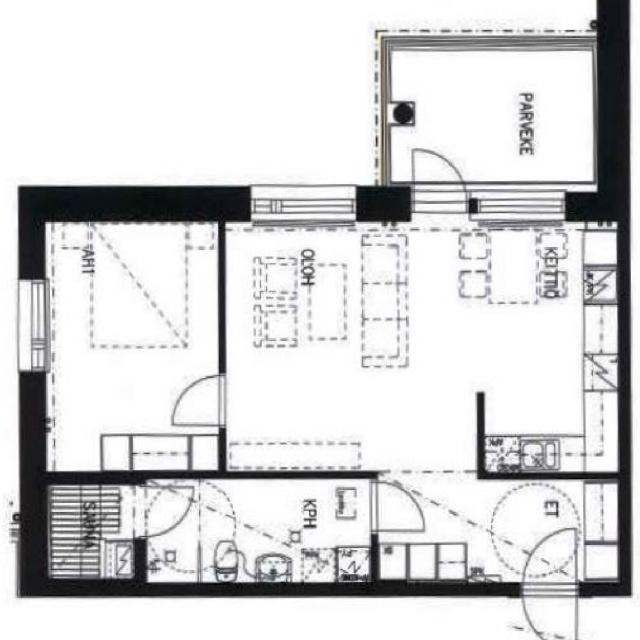door: (414, 138, 466, 221), (523, 526, 577, 596), (523, 582, 577, 640), (134, 487, 194, 536), (170, 376, 226, 426), (370, 483, 424, 531)
